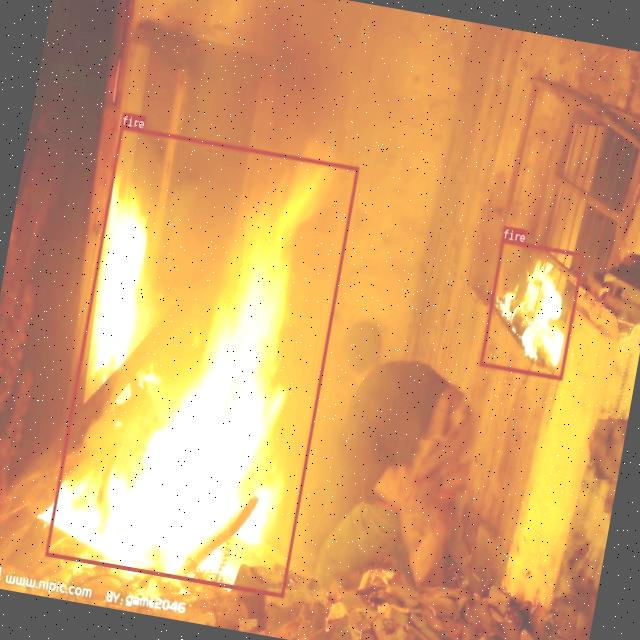fire: (44, 124, 358, 596), (479, 238, 583, 379)
